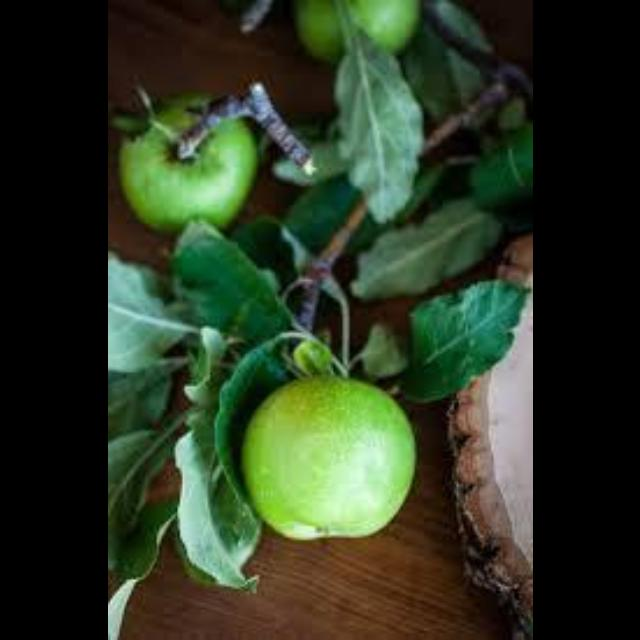apple: (242, 377, 410, 538), (119, 95, 254, 230), (344, 0, 417, 51), (291, 0, 342, 61)
